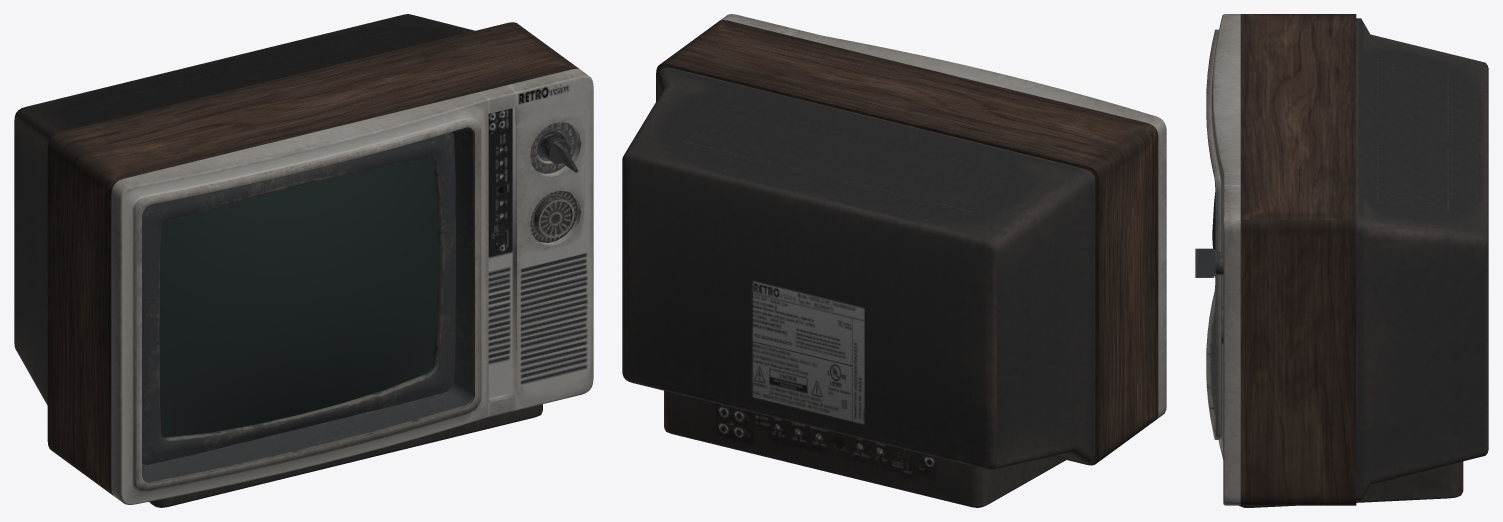
The picture shows the model from 3 angles, left to right: view 1: azimuth 30°, elevation 25°; view 2: azimuth 150°, elevation 25°; view 3: azimuth 270°, elevation 25°; orthographic projection. The views are drawn at different scales.
Parts seen in each view (by area): view 1: Old TV TV_LP_02, Blank live CRT glass, Old TV TV_LP_08, Old TV TV_LP_03, Old TV TV_LP_07; view 2: Old TV TV_LP_07, Old TV TV_LP_08, Old TV TV_LP_02; view 3: Old TV TV_LP_07, Old TV TV_LP_08, Old TV TV_LP_02, Old TV TV_LP_03.
Boxes of the visible parts, x1,y1,x2,y2 form: Old TV TV_LP_02: (111, 68, 593, 504); Blank live CRT glass: (159, 158, 438, 437); Old TV TV_LP_08: (47, 22, 579, 495); Old TV TV_LP_03: (142, 127, 578, 483); Old TV TV_LP_07: (14, 14, 542, 507); Old TV TV_LP_07: (622, 67, 1095, 507); Old TV TV_LP_08: (656, 20, 1158, 465); Old TV TV_LP_02: (720, 14, 1166, 419); Old TV TV_LP_07: (1239, 18, 1488, 507); Old TV TV_LP_08: (1240, 14, 1356, 505); Old TV TV_LP_02: (1206, 14, 1240, 505); Old TV TV_LP_03: (1195, 248, 1223, 431).
Size of the model in its own units: 0.4416 by 0.3021 by 0.261.
5 materials, 4 textured.
